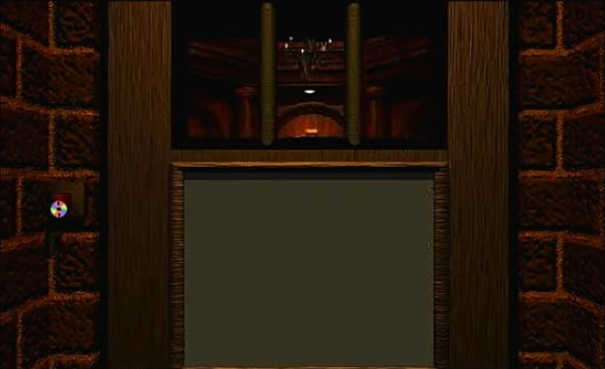Waiting: (47, 197, 70, 220)
